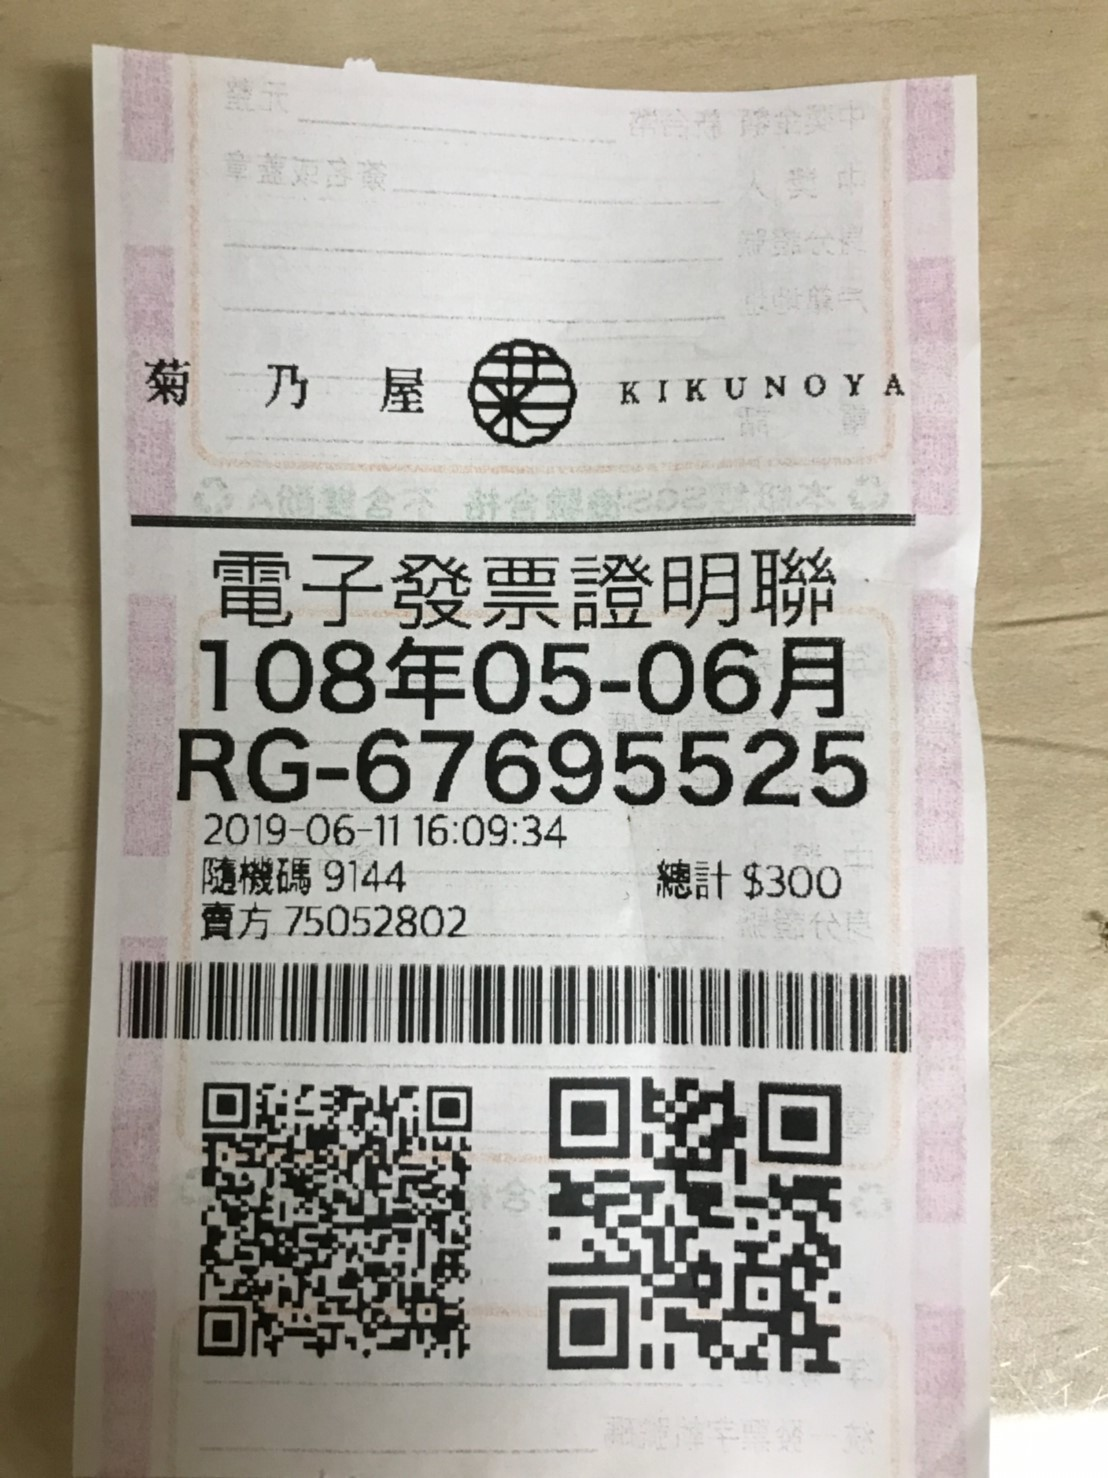Date_New: (196, 632, 852, 725)
Number_New: (351, 725, 871, 812)
